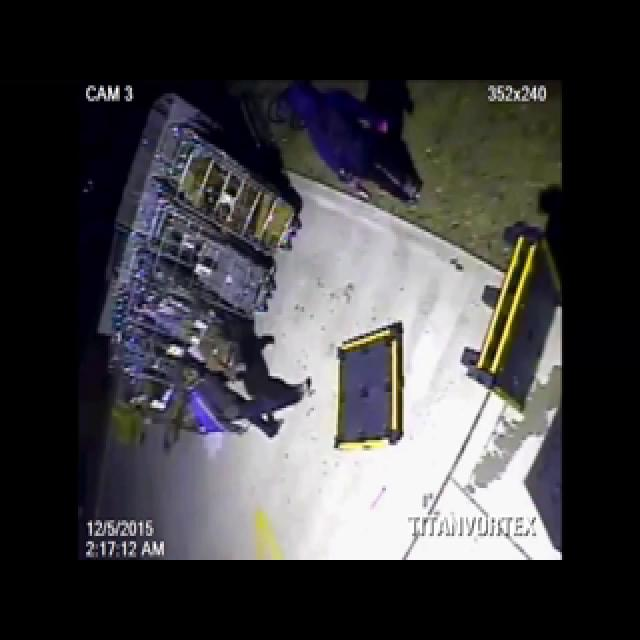vandalism: (276, 71, 466, 286), (150, 359, 288, 478)
